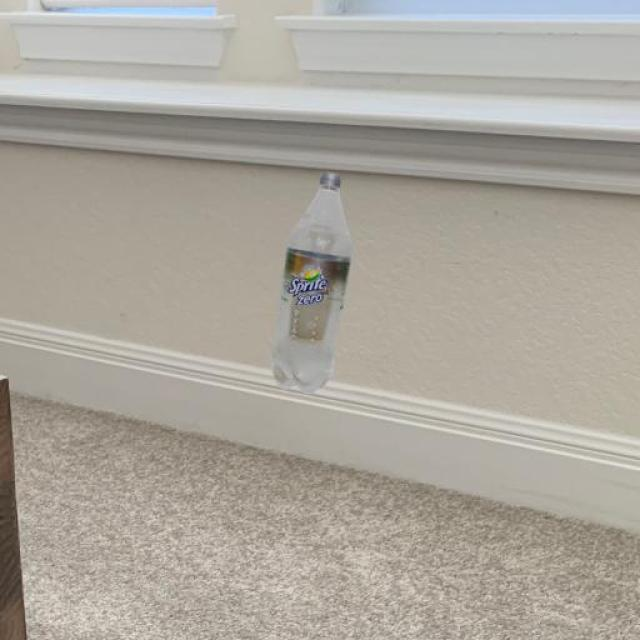plasticbottle: (243, 154, 377, 413)
